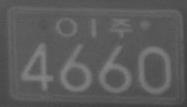0: (138, 45, 172, 95), (54, 15, 78, 38)
1: (83, 17, 105, 38)
4: (20, 40, 53, 91)
6: (59, 42, 93, 93), (97, 44, 131, 95)
주: (109, 17, 133, 38)
